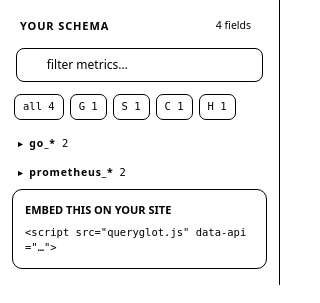
Test case: SchemaRail › an active filter flattens groups into one list
Type "go_" into the field with placeholder "filter metrics…" at (149, 65), box x1=47 y1=56 x2=252 y2=74
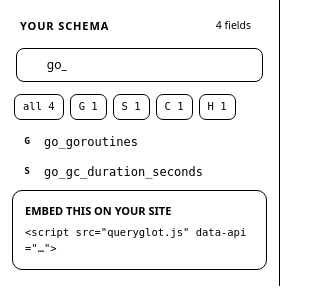
Expected: the text "go_*" is not shown
Now the text "go_goroutines" is shown, box x1=44 y1=132 x2=138 y2=150
